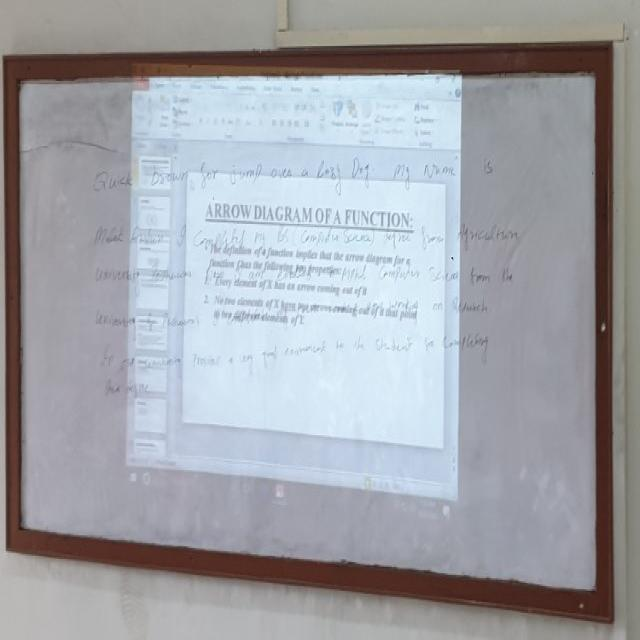Slide: (124, 54, 463, 528)
White-board: (14, 54, 607, 612)
